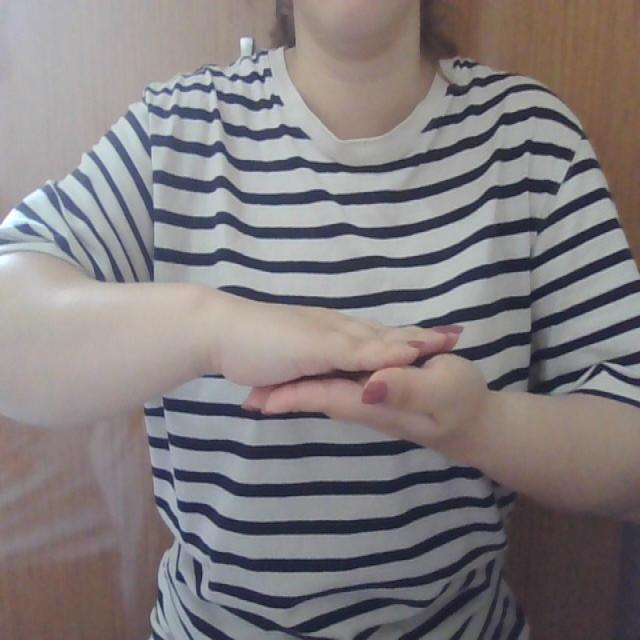Arkadas: (137, 275, 538, 463)
